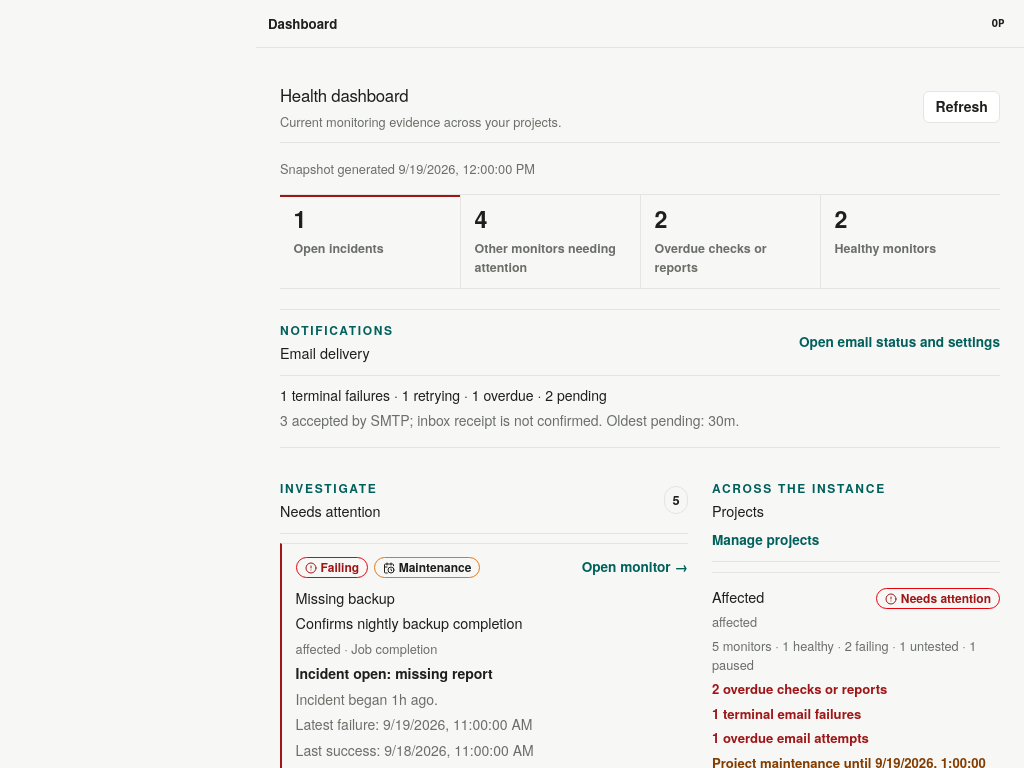
Scenario: prioritizes distinct health problems and keeps healthy and empty projects visible
Expected: the heading "Health dashboard" is shown, [280, 83, 408, 107]
Expected: the text "Incident open: missing report" is shown, [296, 663, 493, 683]
Step 1. Click the link "Open email status and settings" → [900, 342], box [799, 332, 1000, 352]
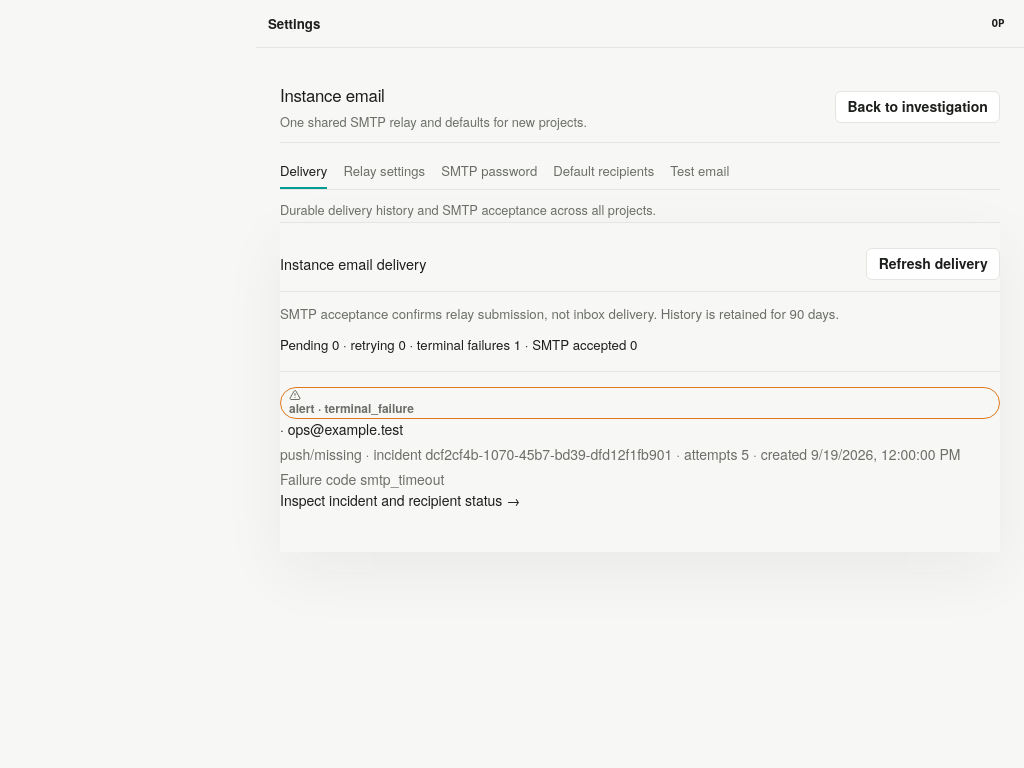
Result: the element "Instance email delivery" shows "Failure code smtp_timeout" at [280, 469, 444, 489]
Step 2. Click the button "Back to investigation" → [918, 107], box [835, 91, 1000, 123]
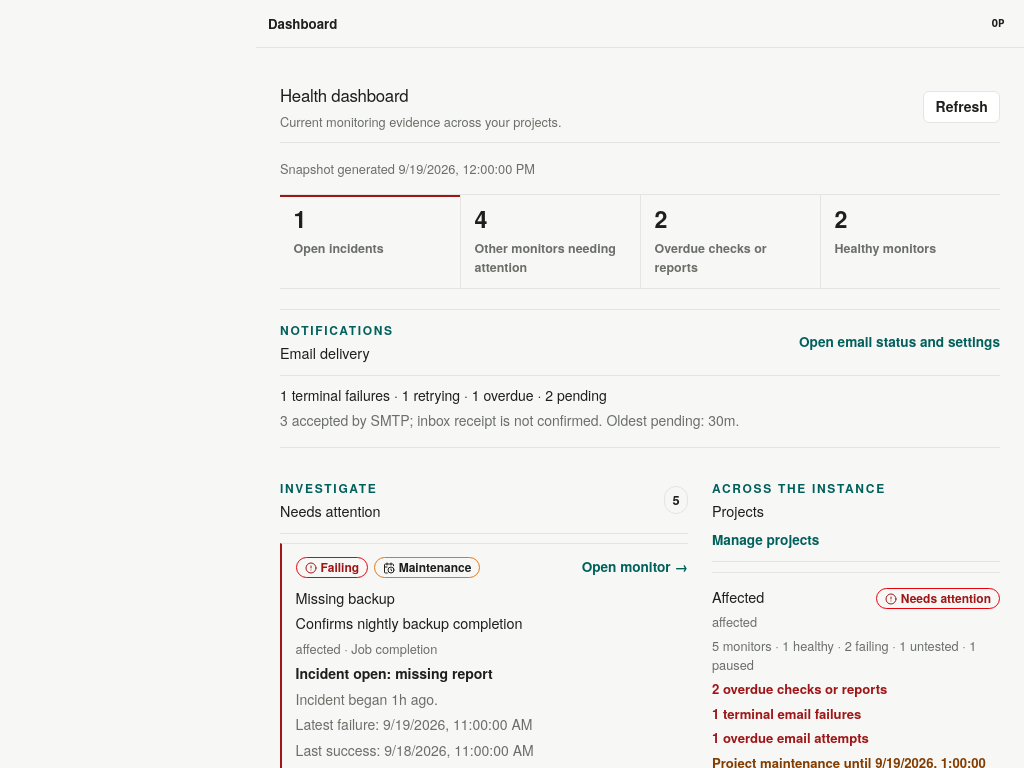
Result: the heading "Health dashboard" is shown at [280, 83, 408, 107]
